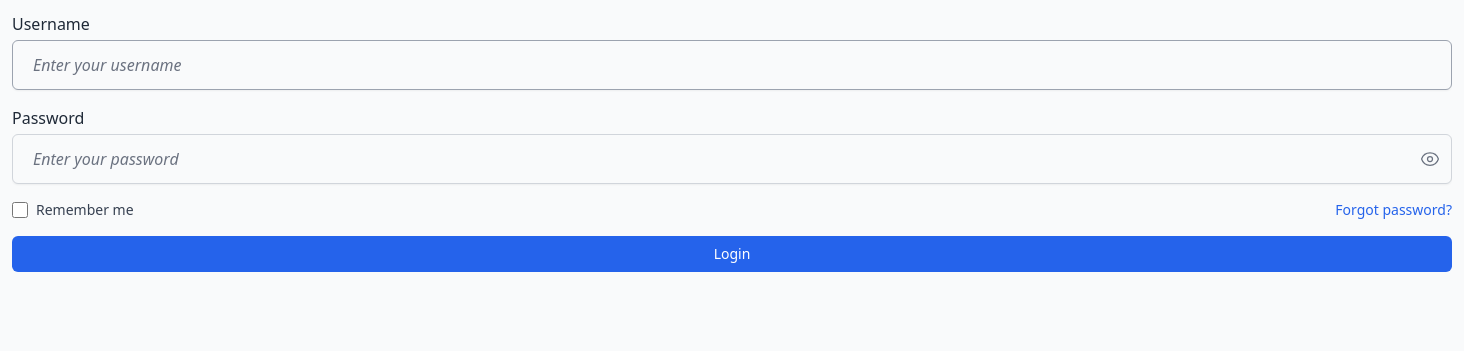
LoginForm Component › displays error message on login failure
This screenshot has width=1464, height=351.
Note: Fill in the form
Type "test@example.com" into the field labelled "Username". click: [732, 65]
box: [12,40,1452,90]
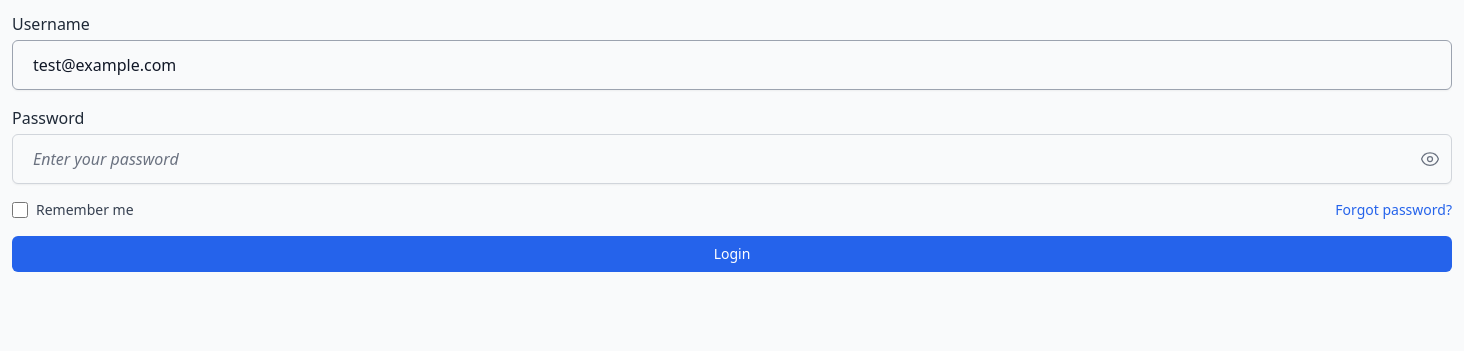
Type "wrongpassword" into the password field labelled "Password". click: [732, 159]
box: [12,134,1452,184]
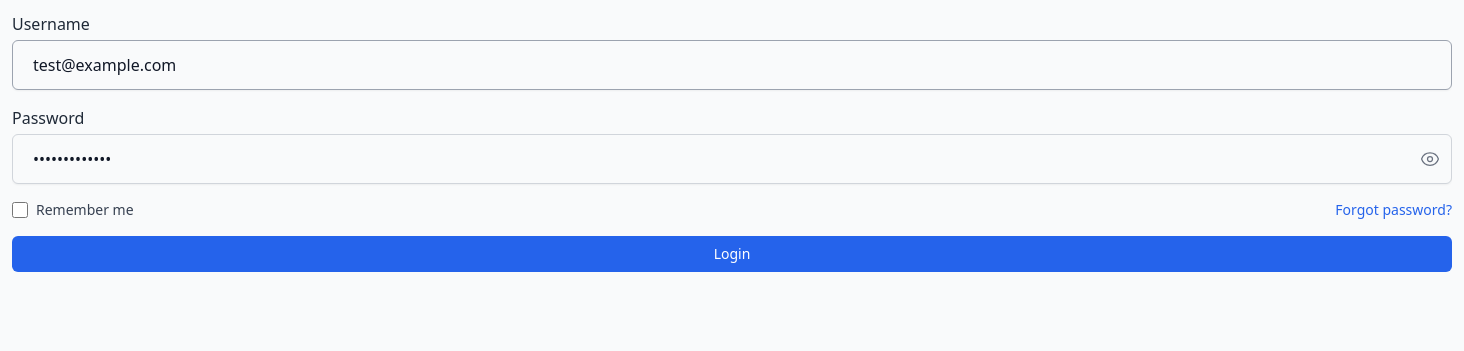
Note: Submit the form
Click the button "Login". click: [732, 254]
box: [12,236,1452,272]
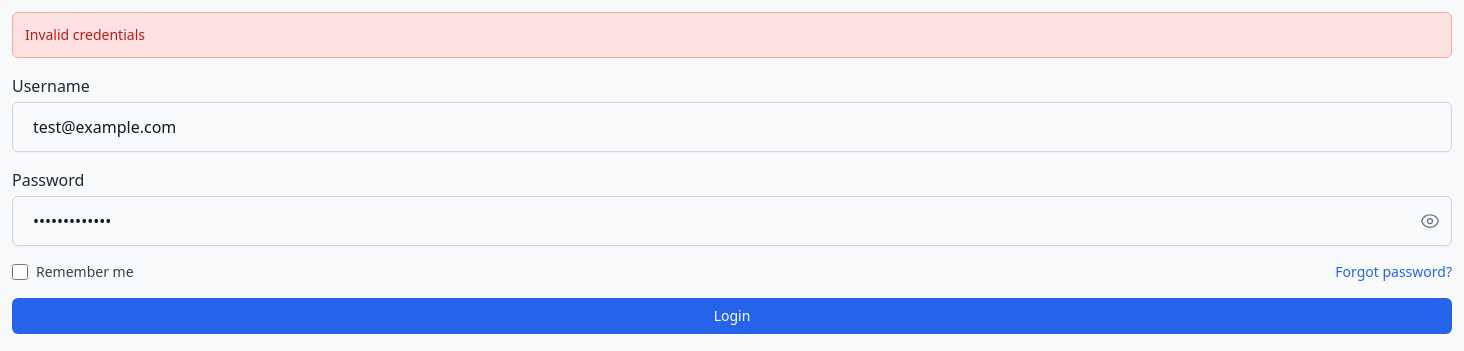
expect the text "Invalid credentials" is shown: met, box [12,12,1452,58]
